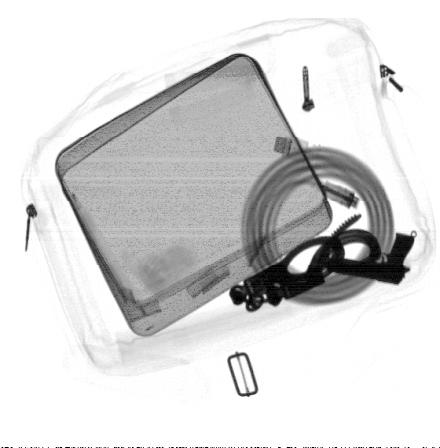Gun: (325, 232, 417, 288)
HandCuffs: (224, 209, 383, 316)
